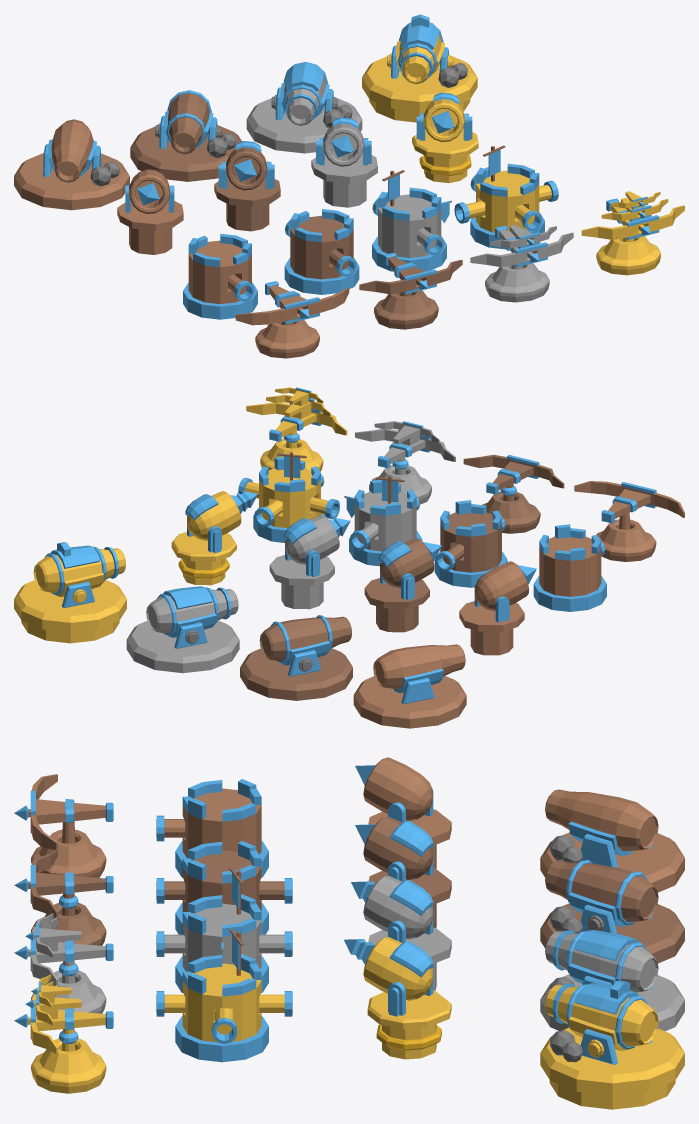
Rendered from war_towers_blue_top.fbx.
3 renders of one model, top to bottom at view 1: azimuth 30°, elevation 25°; view 2: azimuth 150°, elevation 25°; view 3: azimuth 270°, elevation 25°, orthographic. The views are drawn at different scales.
Visible parts, largest first — view 1: body_6, body_5, body_7, main_4, body_8, main, main_2, main_3, body_16, body_15, body_14, stand_4 (+19 smaller); view 2: body_5, main_4, body_6, main, main_3, main_2, body_7, body_16, body_8, body_15, body_14, body_13 (+20 smaller); view 3: body_8, main_4, body_5, body_16, body_14, body_15, body_13, body_7, body_6, stand_4, body_4, body_12 (+31 smaller).
Boxes of the visible parts, <box> form: body_6: <box>284,209,359,294</box>; body_5: <box>183,233,257,319</box>; body_7: <box>372,187,446,271</box>; main_4: <box>362,55,477,122</box>; body_8: <box>470,163,544,249</box>; main: <box>14,153,129,210</box>; main_2: <box>130,125,241,181</box>; main_3: <box>246,97,362,153</box>; body_16: <box>396,14,444,84</box>; body_15: <box>280,62,329,125</box>; body_14: <box>164,90,213,154</box>; stand_4: <box>412,128,478,182</box>; body_5: <box>533,524,606,611</box>; main_4: <box>14,580,126,643</box>; body_6: <box>434,500,507,587</box>; main: <box>353,676,466,728</box>; main_3: <box>126,620,239,673</box>; main_2: <box>240,648,352,700</box>; body_7: <box>349,480,422,566</box>; body_16: <box>33,542,125,596</box>; body_8: <box>253,456,326,542</box>; body_15: <box>146,586,238,637</box>; body_14: <box>259,615,351,665</box>; body_13: <box>373,644,465,692</box>; body_8: <box>175,954,268,1062</box>; main_4: <box>540,1027,684,1109</box>; body_5: <box>175,779,268,877</box>; body_16: <box>545,981,658,1050</box>; body_14: <box>545,860,658,926</box>; body_15: <box>545,930,658,992</box>; body_13: <box>545,789,658,855</box>; body_7: <box>175,894,268,993</box>; body_6: <box>175,841,268,934</box>; stand_4: <box>367,990,451,1059</box>; body_4: <box>31,1029,106,1093</box>; body_12: <box>363,937,433,1000</box>.
Size of the model in its own units: 1239 by 218 by 1262.
1 material, 1 textured.
